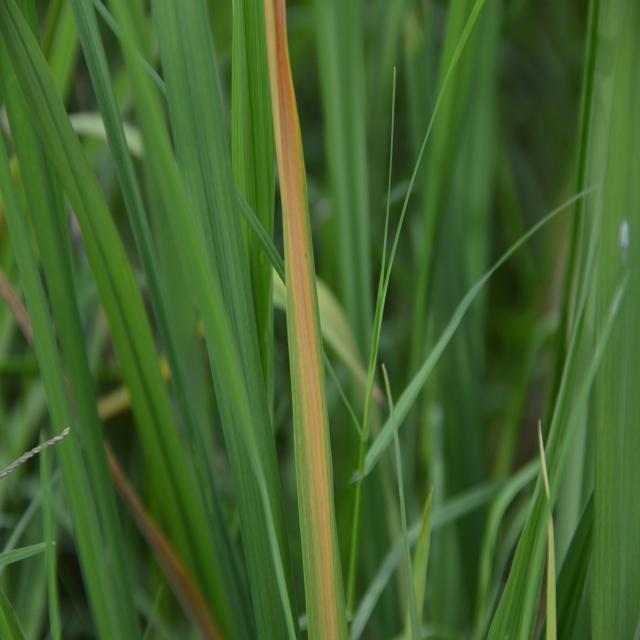Rice Tungro: (257, 0, 358, 639)
